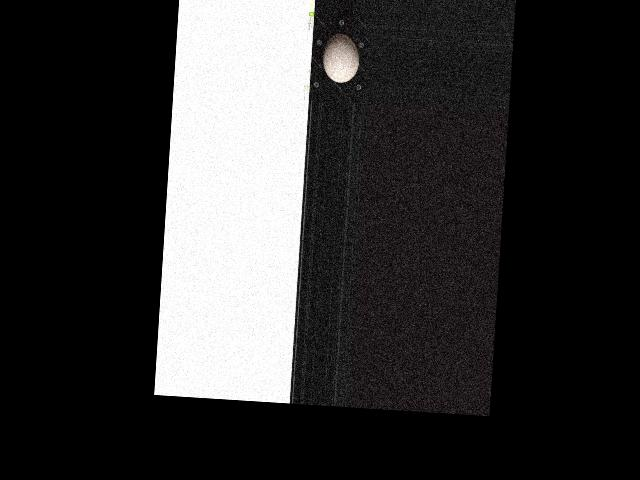egg: (321, 32, 360, 84)
